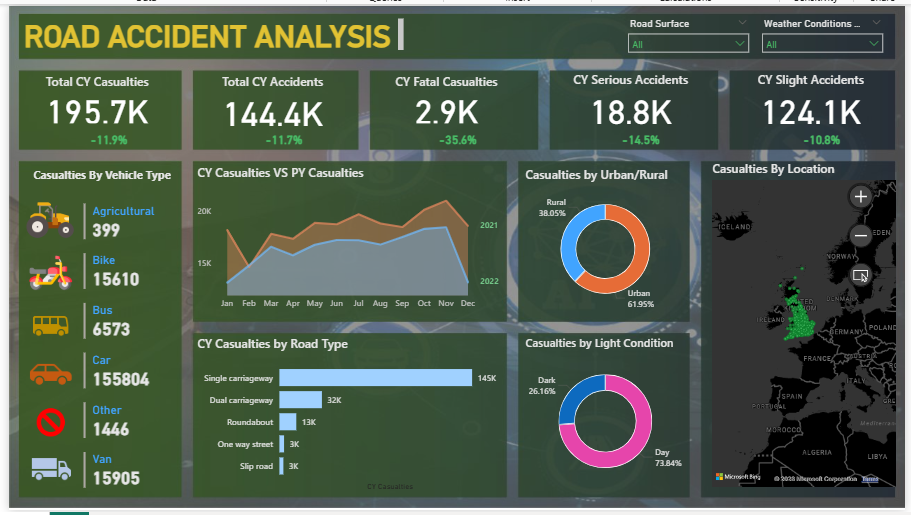

The page's visual inventory and layout, read from the dashboard file:
{"tool":"powerbi","page":{"name":"Page 1","canvas":[1280,720],"ordinal":0},"visuals":[{"type":"card","title":"Total CY Casualties","fields":{"Values":["Data.CY Casualties"]},"box":[15.6,96.4,221.1,76.5],"z":0},{"type":"card","fields":{"Values":["Data.YoY Casualties"]},"box":[90.7,172.9,104.9,36.9],"z":1000},{"type":"card","title":"Total CY  Accidents","fields":{"Values":["Data.CY Accidents"]},"box":[263.7,95.7,225.1,82.3],"z":2000},{"type":"card","fields":{"Values":["Data.YoY Accidents"]},"box":[340.2,172.9,104.9,36.9],"z":3000},{"type":"card","title":" CY Slight  Accidents","fields":{"Values":["Data.CY Accidents"]},"box":[1033.2,93.5,225.4,82.2],"z":4000},{"type":"card","fields":{"Values":["Data.YoY Accidents"]},"box":[1108.7,173,104.1,37],"z":5000},{"type":"card","title":" CY Serious  Accidents","fields":{"Values":["Data.CY Accidents"]},"box":[775.3,93.5,225.4,82.2],"z":6000},{"type":"card","fields":{"Values":["Data.YoY Accidents"]},"box":[850.4,172.9,104.9,36.9],"z":7000},{"type":"card","fields":{"Values":["Data.YoY Accidents"]},"box":[588.2,172.9,104.9,36.9],"z":8000},{"type":"card","title":" CY Fatal Casualties","fields":{"Values":["Data.CY Casualties"]},"box":[514,95.7,221.7,77.3],"z":9000},{"type":"textbox","box":[15.6,12.8,552.8,56.7],"z":10000},{"type":"multiRowCard","fields":{"Values":["Data.Vehicle_Type (groups)","Data.CY Casualties"]},"box":[102,277.8,134.6,442.2],"z":11000},{"type":"image","box":[15.6,263.6,86.5,82.2],"z":12000},{"type":"image","box":[7.1,345.8,104.9,70.9],"z":13000},{"type":"image","box":[7.1,423.8,104.9,65.2],"z":14000},{"type":"image","box":[7.1,489,104.9,75.1],"z":15000},{"type":"image","box":[7.1,564.1,104.9,60.9],"z":16000},{"type":"image","box":[0,625,121.9,70.9],"z":17000},{"type":"textbox","box":[29.8,225.4,206.9,38.3],"z":18000},{"type":"areaChart","title":"CY Casualties VS PY Casualties","fields":{"Category":["Calender.Month"],"Y":["Sum(Data.Number_of_Casualties)"],"Series":["Calender.Date.Variation.Date Hierarchy.Year"]},"box":[263.6,225.4,443.6,216.9],"z":19000},{"type":"donutChart","title":"Casualties by Urban/Rural","fields":{"Category":["Data.Urban_or_Rural_Area"],"Y":["Data.CY Casualties"]},"box":[732.8,228.2,238.1,214],"z":20000},{"type":"donutChart","title":" Casualties by Light Condition","fields":{"Category":["Data.Light_Conditions (groups)"],"Y":["Data.CY Casualties"]},"box":[732.8,470.6,238.1,225.4],"z":21000},{"type":"barChart","title":"CY Casualties by Road Type","fields":{"Category":["Data.Road_Type"],"Y":["Data.CY Casualties"]},"box":[263.6,470.6,443.6,226.8],"z":22000},{"type":"map","title":"Casualties By Location","fields":{"Category":["Data.Local_Authority_(District)"],"Y":["Avg(Data.Latitude)"],"X":["Avg(Data.Longitude)"]},"box":[1000,220,271.7,471.7],"z":23000},{"type":"slicer","title":"Weather Condition","fields":{"Values":["Data.Weather_Conditions (groups)"]},"box":[1065.8,11.3,192.8,58.1],"z":24000},{"type":"slicer","title":"Road Surface","fields":{"Values":["Data.Vehicle_Type (groups)"]},"box":[874.5,11.3,192.8,58.1],"z":25000}]}

Visuals, with their boxes in screenshot pixels (x1, y1, x2, y2), scaled from the page's 1280x720 canvas onto the 911x515 screenshot:
"Total CY Casualties" card: (11, 69, 168, 124)
card - Data.YoY Casualties: (65, 124, 139, 150)
"Total CY  Accidents" card: (188, 68, 348, 127)
card - Data.YoY Accidents: (242, 124, 317, 150)
" CY Slight  Accidents" card: (735, 67, 896, 126)
card - Data.YoY Accidents: (789, 124, 863, 150)
" CY Serious  Accidents" card: (552, 67, 712, 126)
card - Data.YoY Accidents: (605, 124, 680, 150)
card - Data.YoY Accidents: (419, 124, 493, 150)
" CY Fatal Casualties" card: (366, 68, 524, 124)
textbox: (11, 9, 405, 50)
multiRowCard - Data.Vehicle_Type (groups) x Data.CY Casualties: (73, 199, 168, 514)
image: (11, 189, 73, 247)
image: (5, 247, 80, 298)
image: (5, 303, 80, 350)
image: (5, 350, 80, 403)
image: (5, 403, 80, 447)
image: (0, 447, 87, 498)
textbox: (21, 161, 168, 189)
"CY Casualties VS PY Casualties" areaChart: (188, 161, 503, 316)
"Casualties by Urban/Rural" donutChart: (522, 163, 691, 316)
" Casualties by Light Condition" donutChart: (522, 337, 691, 498)
"CY Casualties by Road Type" barChart: (188, 337, 503, 499)
"Casualties By Location" map: (712, 157, 905, 495)
"Weather Condition" slicer: (759, 8, 896, 50)
"Road Surface" slicer: (622, 8, 760, 50)
